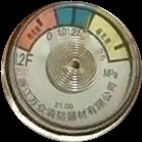green: (56, 6, 95, 32)
needle: (82, 10, 94, 44)
red: (18, 8, 60, 55)
yellow: (87, 14, 129, 63)
